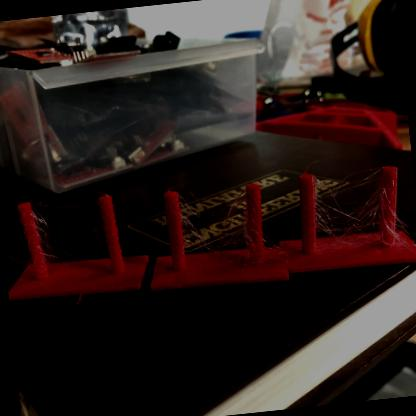fail: (313, 171, 391, 246), (184, 192, 253, 253), (32, 205, 86, 281)
